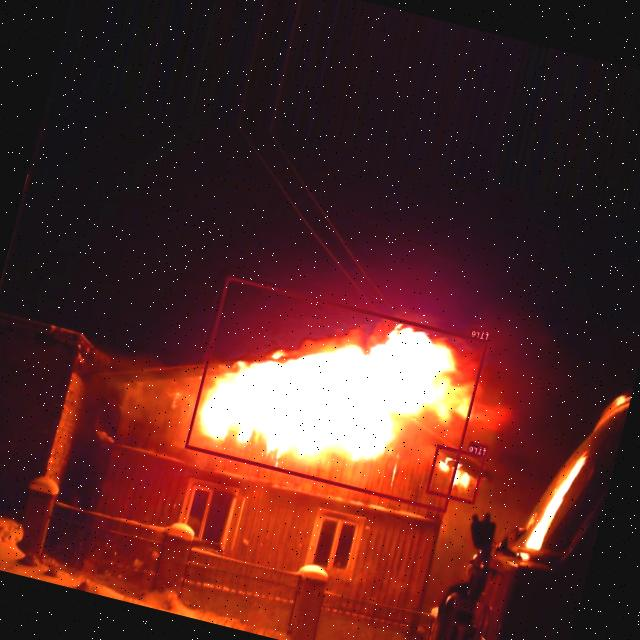fire: (184, 275, 488, 512), (426, 443, 486, 504)
